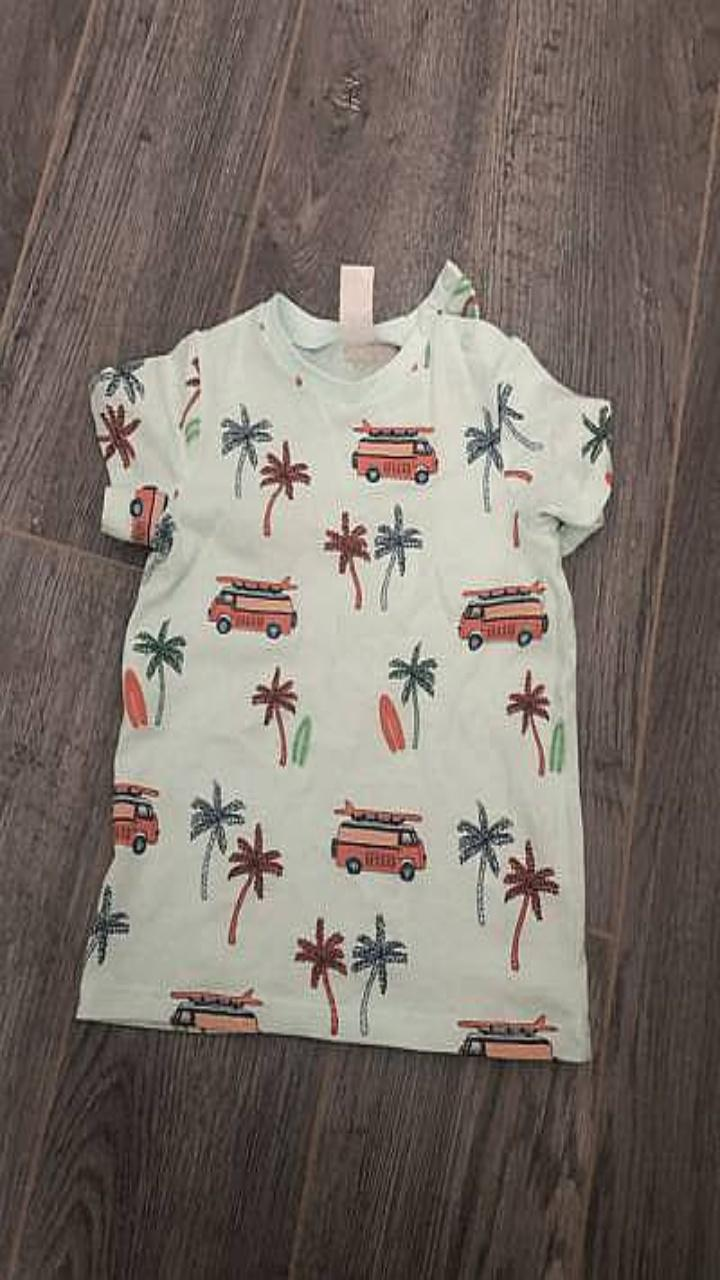T-Shirt: (78, 262, 611, 1060)
